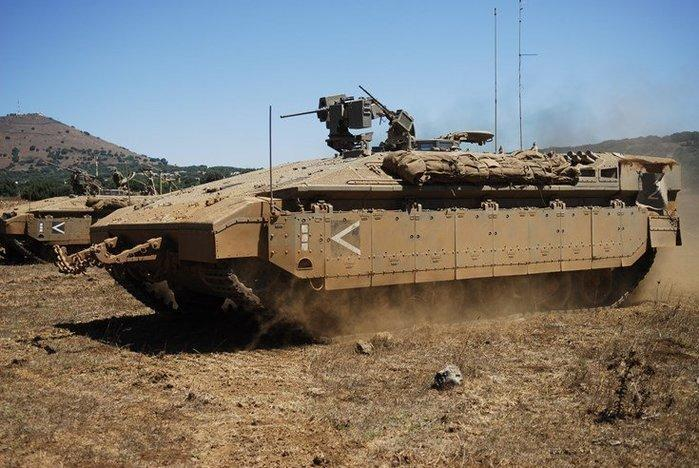MIL_IFV: (90, 84, 686, 343)
